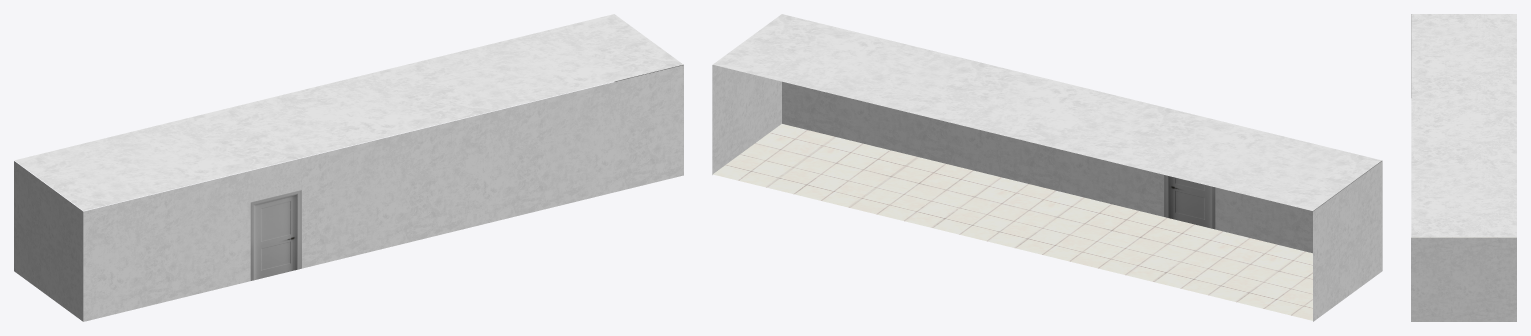
File: lobby wall.fbx
The picture shows the model from 3 angles, left to right: view 1: azimuth 30°, elevation 25°; view 2: azimuth 150°, elevation 25°; view 3: azimuth 270°, elevation 25°; orthographic projection. The views are drawn at different scales.
Visible parts, largest first — view 1: Lobby_Wall, ceiling; view 2: ceiling, Lobby_Floor, Lobby_Wall; view 3: ceiling, Lobby_Wall, Lobby_Floor.
Part boxes in pixels (x1,y1,x2,y2): Lobby_Wall: (14, 64, 683, 321); ceiling: (14, 14, 682, 210); ceiling: (713, 14, 1381, 210); Lobby_Floor: (713, 124, 1312, 320); Lobby_Wall: (712, 65, 1382, 321); ceiling: (1411, 14, 1516, 237); Lobby_Wall: (1411, 14, 1516, 321); Lobby_Floor: (1411, 237, 1516, 237).
Size of the model in its own units: 2467 by 435 by 494.
Materials: 1 (1 with a texture image).
